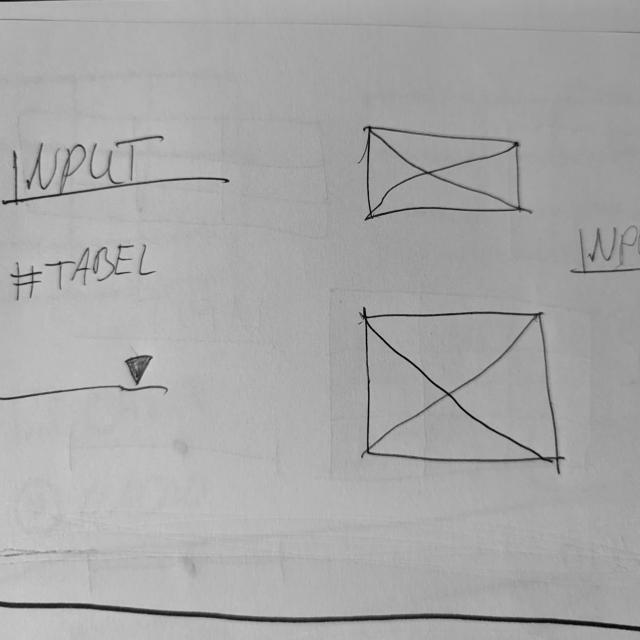button: (358, 119, 532, 229)
input: (2, 133, 236, 213)
label: (10, 236, 162, 308)
select: (2, 344, 176, 408)
